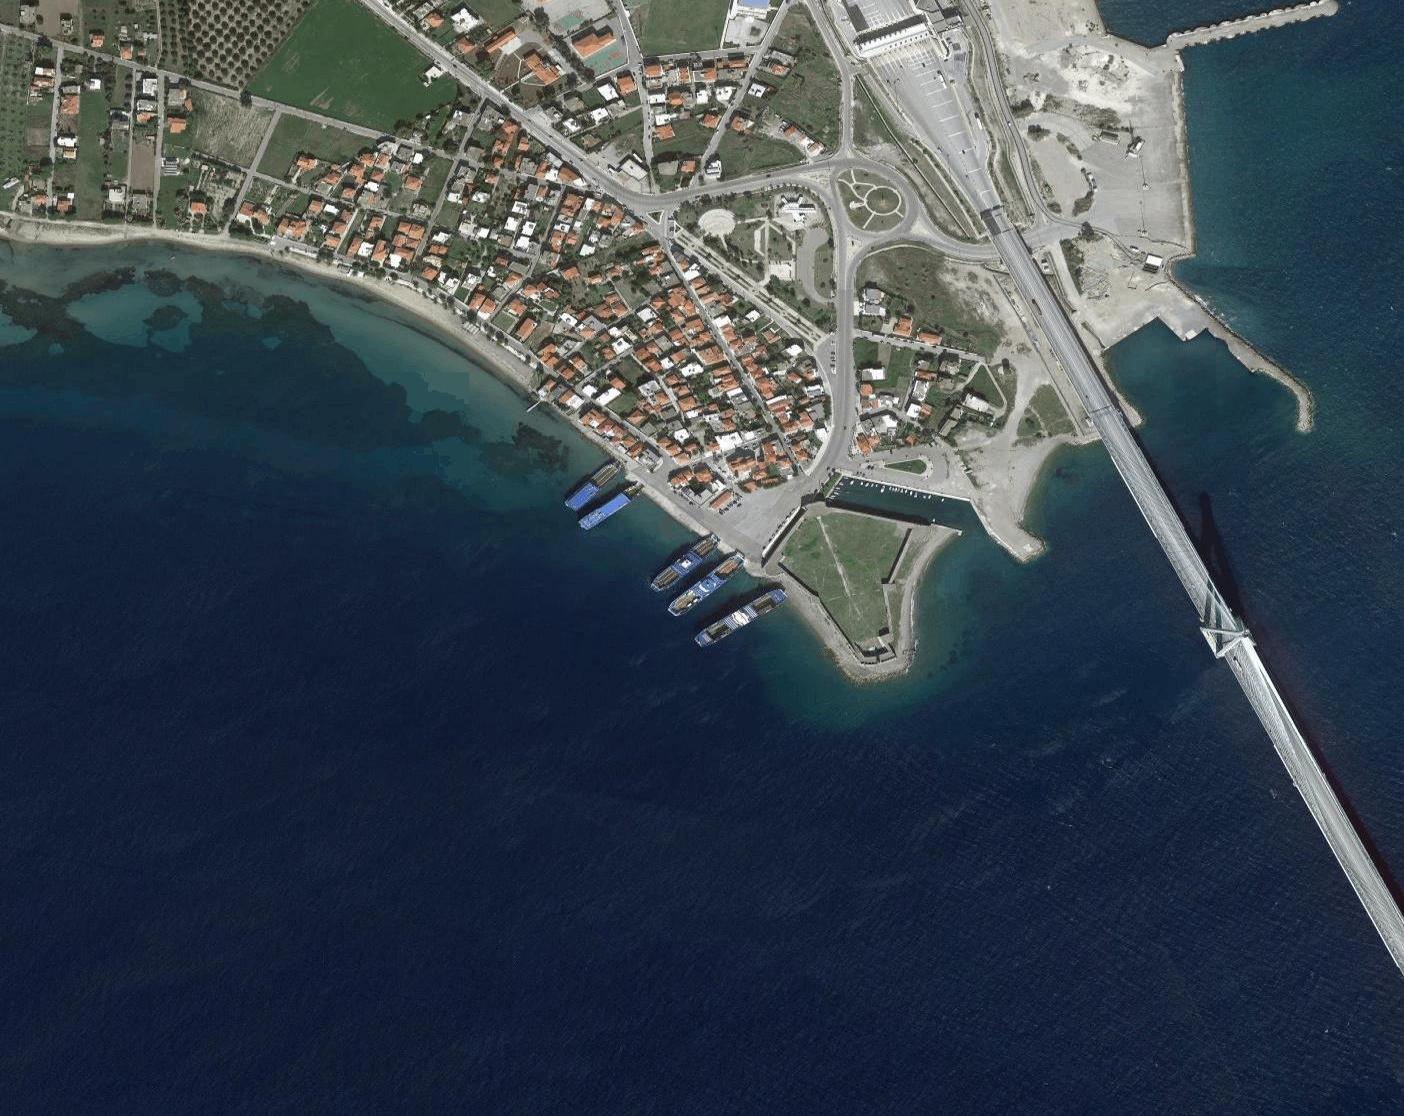bridge: (1079, 407, 1404, 971)
harbor: (464, 355, 1048, 783)
motorway: (1227, 658, 1404, 954), (889, 58, 1032, 260), (1117, 457, 1260, 659), (1017, 256, 1159, 458)
